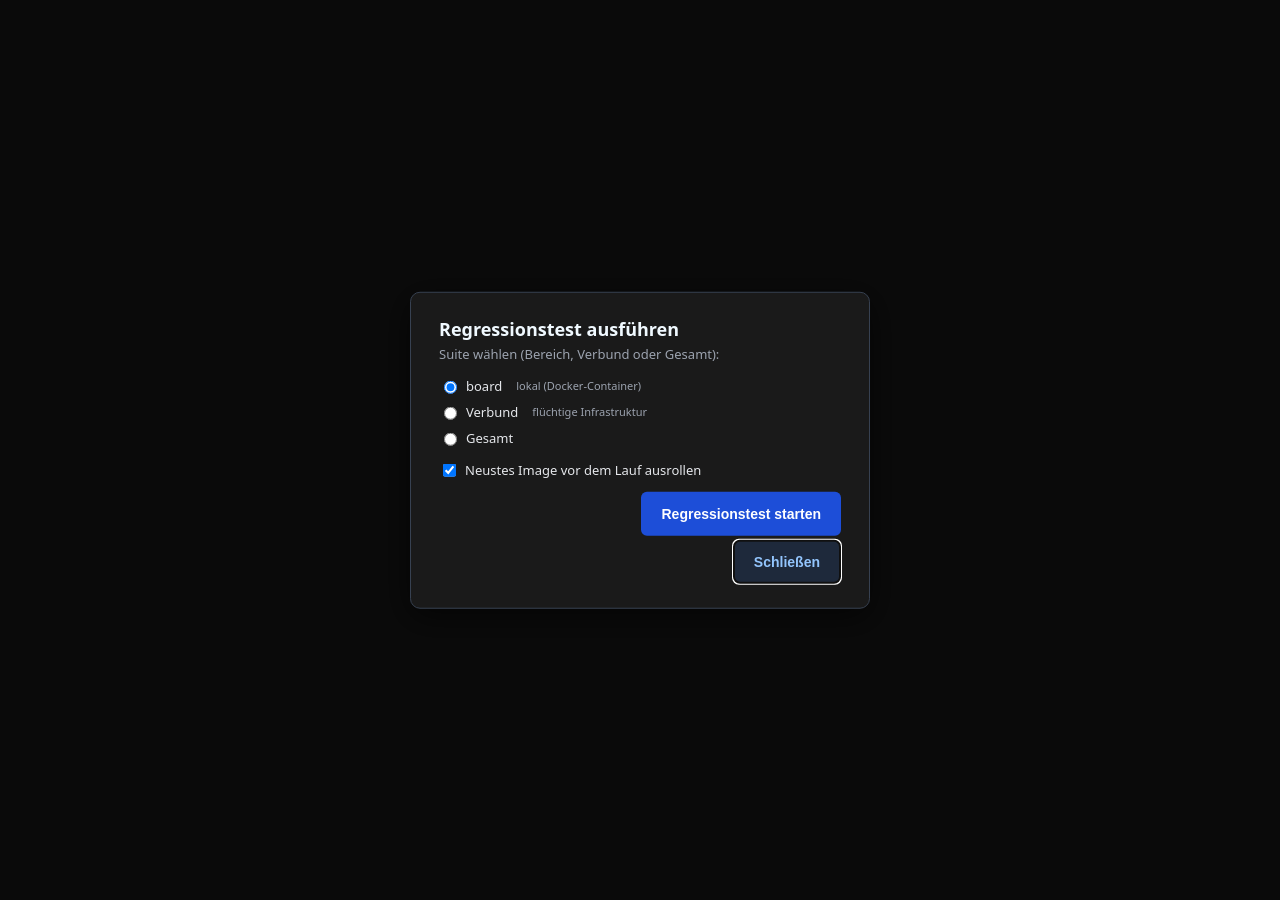
Test: regression-run AC6 — Kosten-/Ressourcen-Hinweis bei ephemeral-infra › zeigt den Kosten-Hinweis nach Auswahl einer ephemeral-infra-Suite
Step 1. Click the radio button labelled "Verbund flüchtige Infrastruktur" → (450, 413), box [444,406,457,419]
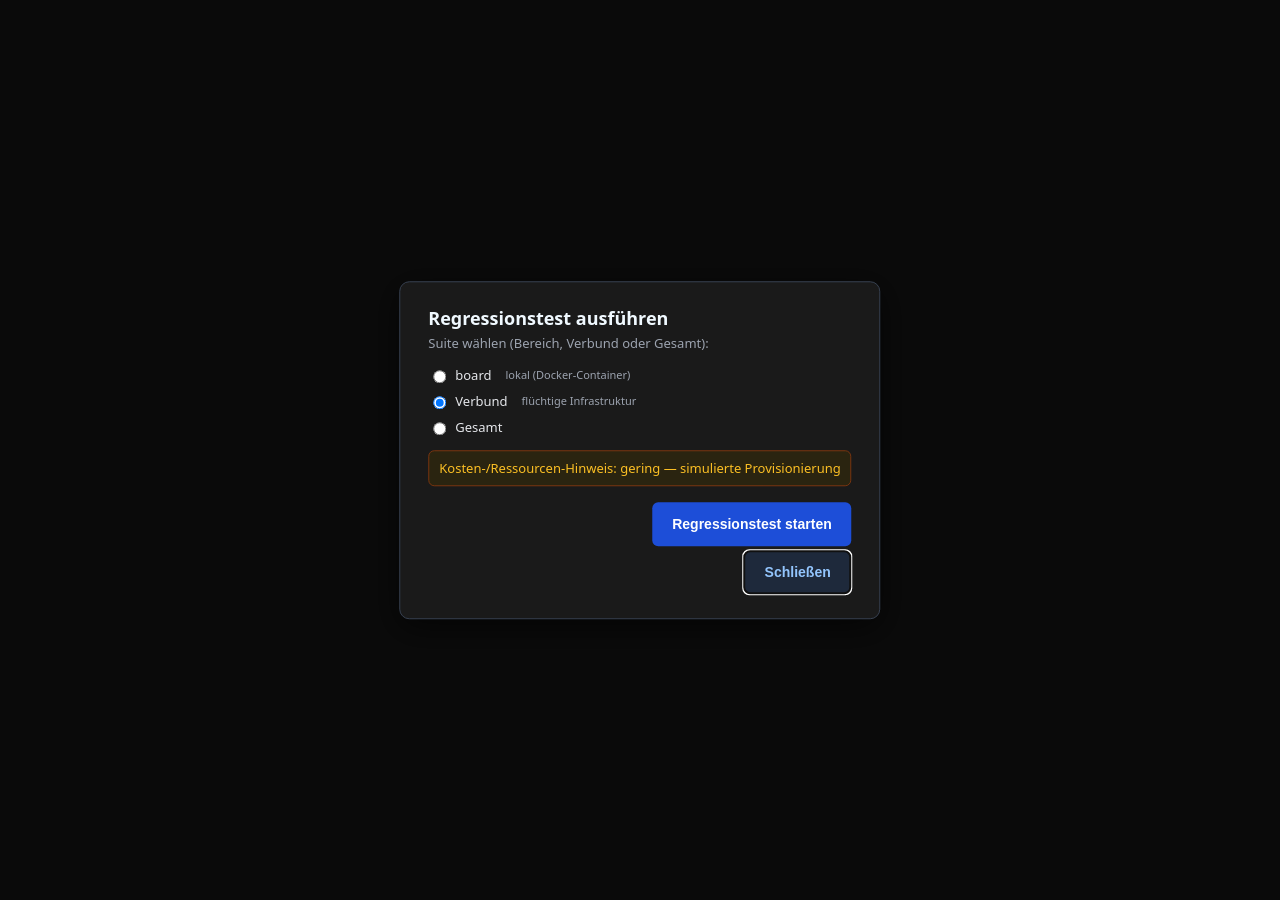
Now the text "gering — simulierte Provisionierung" is shown, box [620,459,841,477]
